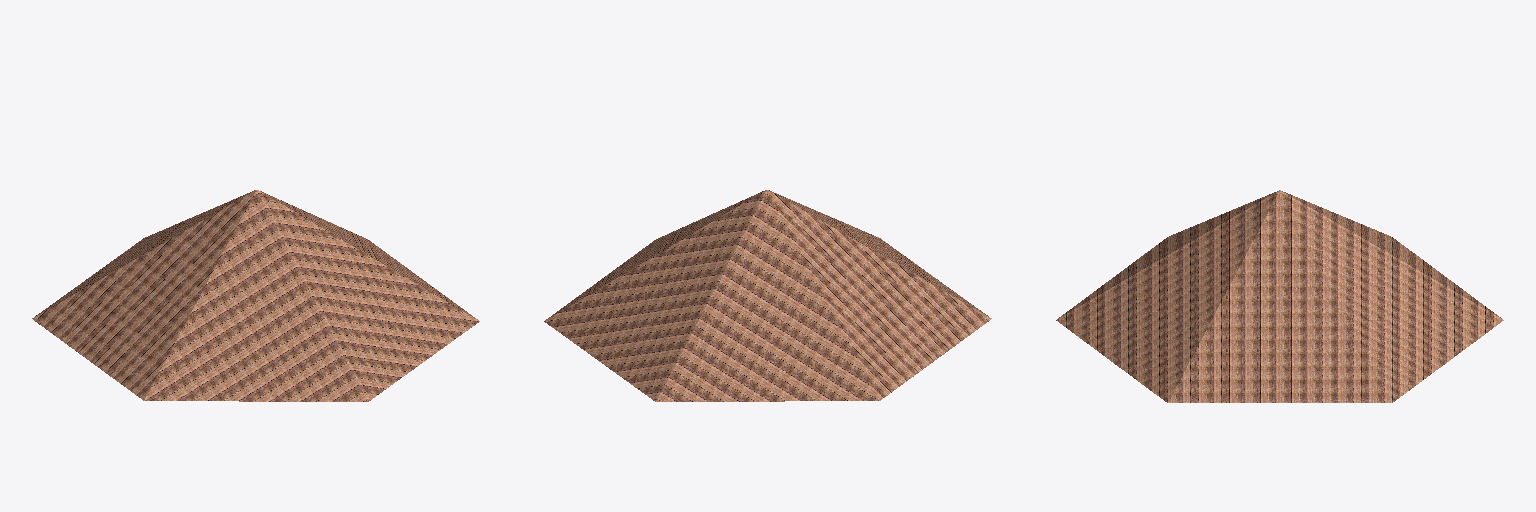
The picture shows the model from 3 angles: view 1: azimuth 30°, elevation 25°; view 2: azimuth 150°, elevation 25°; view 3: azimuth 270°, elevation 25°; orthographic projection.
Parts seen in each view (by area): view 1: Cone_Cone.001; view 2: Cone_Cone.001; view 3: Cone_Cone.001.
Boxes of the visible parts, x1,y1,x2,y2 form: Cone_Cone.001: [32, 190, 479, 401]; Cone_Cone.001: [544, 190, 991, 401]; Cone_Cone.001: [1056, 190, 1503, 402].
Bounding box in the file's own units: 1.78 × 0.6726 × 2.06.
1 materials, 1 textured.